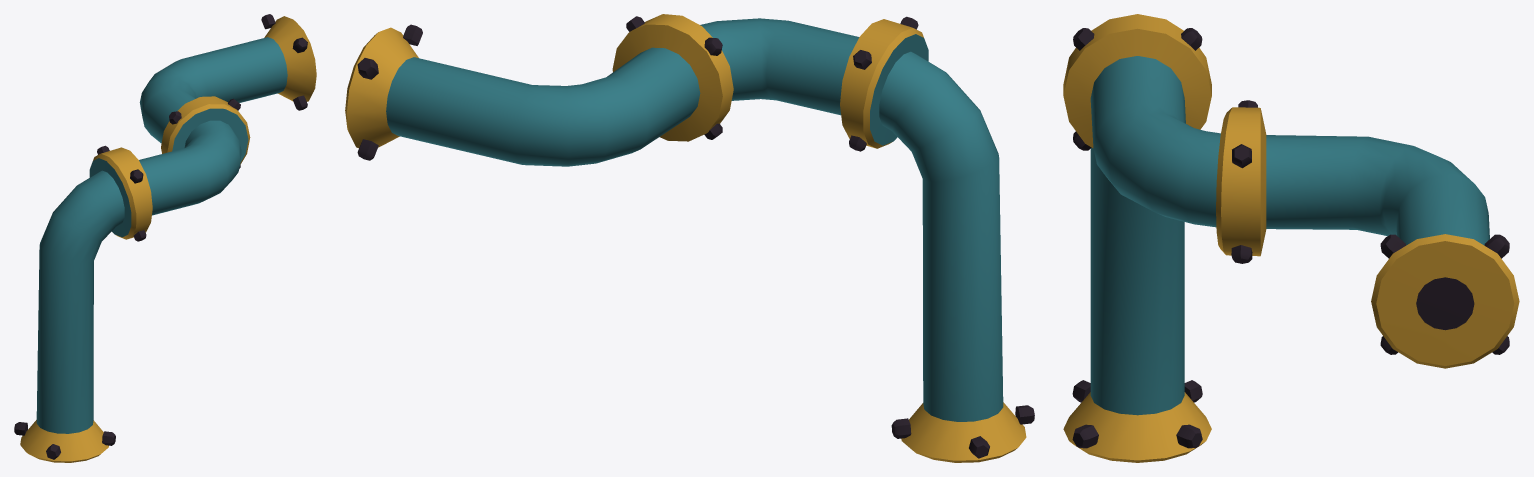
File: PipeRun_25.glb
The picture shows the model from 3 angles, left to right: view 1: azimuth 30°, elevation 25°; view 2: azimuth 150°, elevation 25°; view 3: azimuth 270°, elevation 25°; orthographic projection. The views are drawn at different scales.
Visible parts, largest first — view 1: PipeRun_25; view 2: PipeRun_25; view 3: PipeRun_25.
Part boxes in pixels (<box>): PipeRun_25: <box>14,14,316,462</box>; PipeRun_25: <box>345,14,1034,462</box>; PipeRun_25: <box>1063,14,1519,462</box>.
Size of the model in its own units: 4.81 by 3.53 by 3.19.
